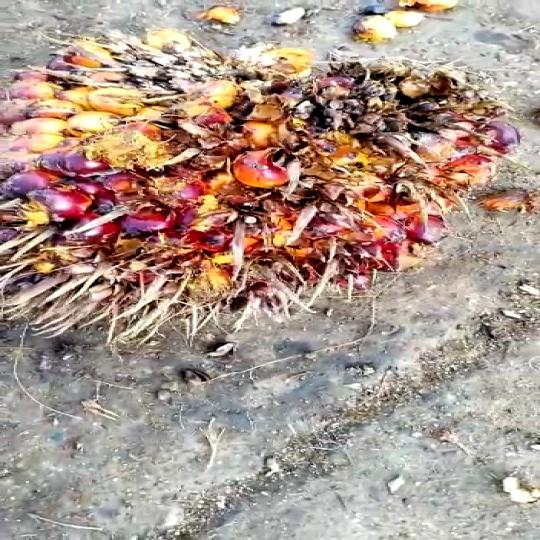masak: (0, 36, 512, 330)
